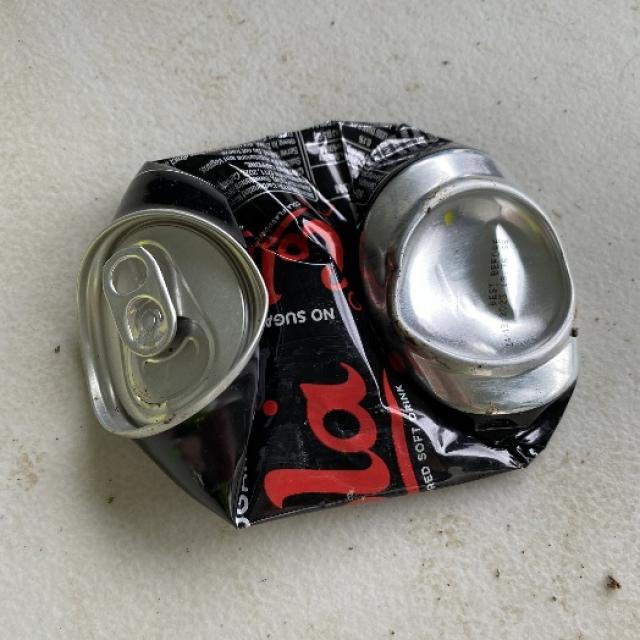metal: (76, 119, 579, 530)
